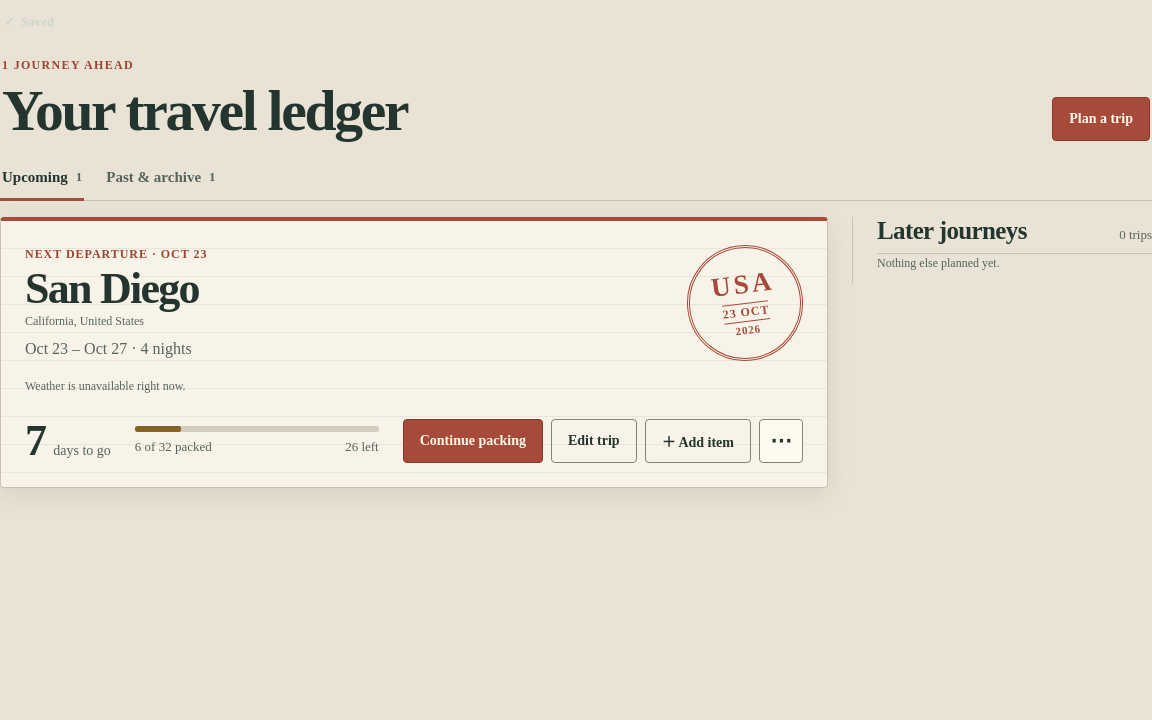
TripsScreen › reads and writes through the server actions
expect the heading "San Diego" is shown: met, box [25,267,207,310]
Click the button named "More actions for San Diego". click: click(781, 441)
box: [759,419,803,463]
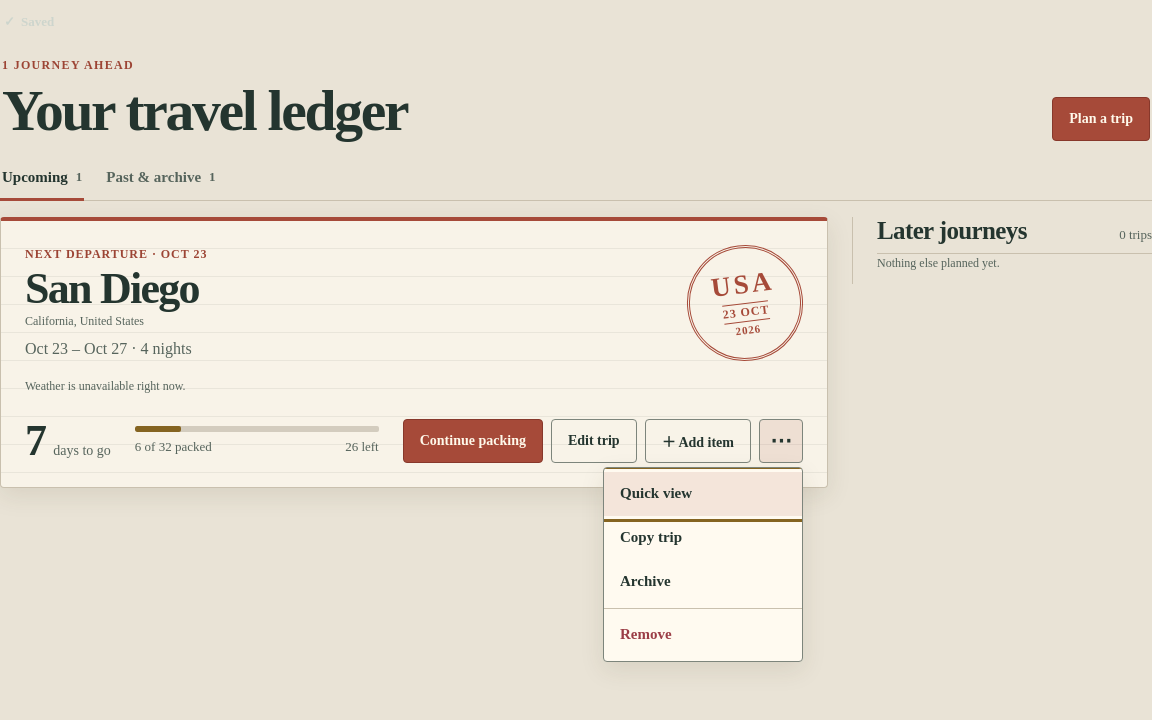
Click the menu item "Remove". click: click(703, 635)
box: [604,613,802,657]
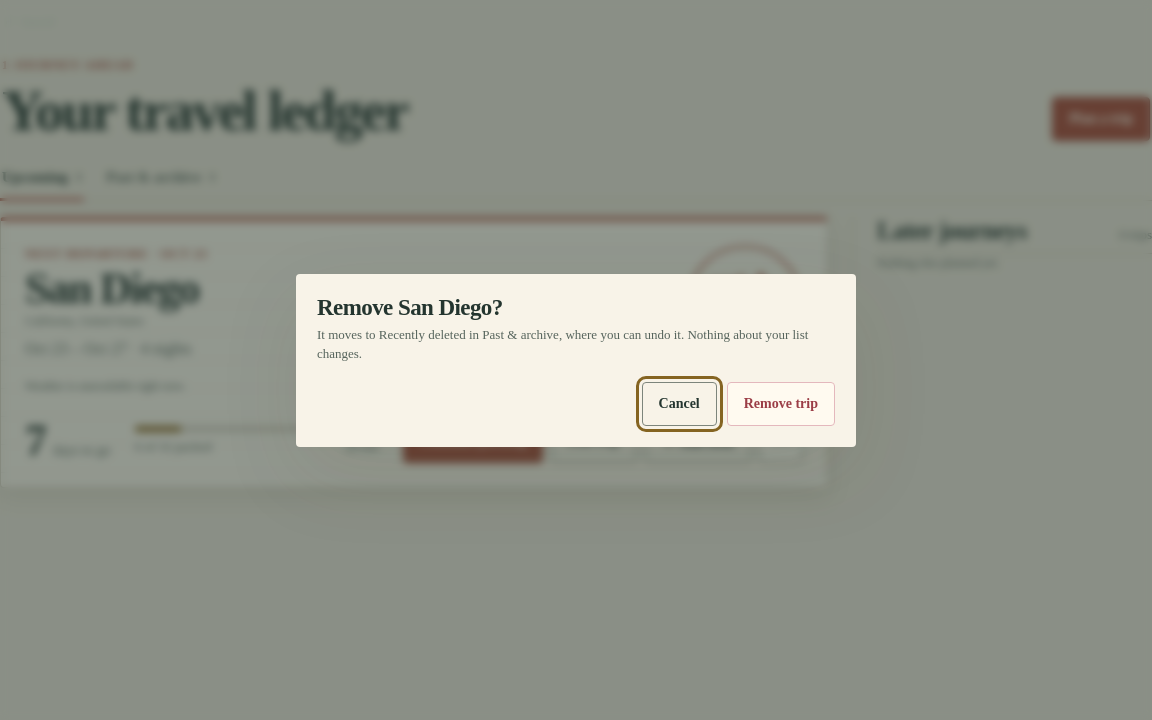
Click the button "Remove trip". click: click(781, 404)
box: [727,382,835,426]
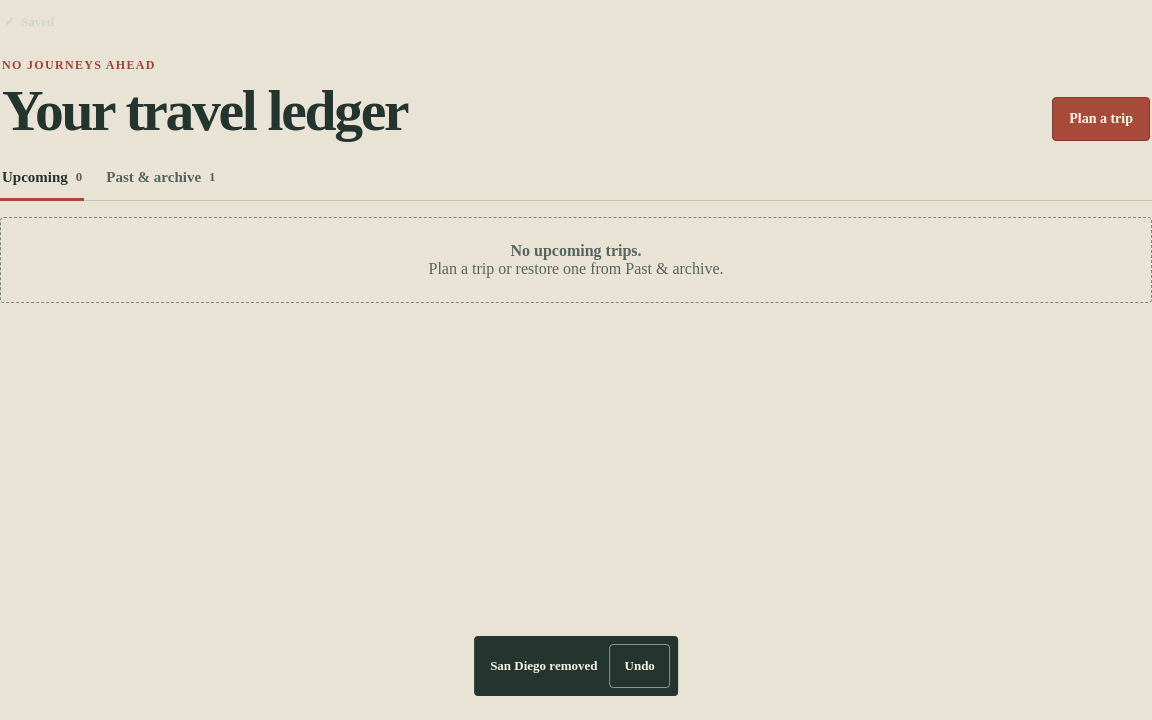
expect the text "San Diego removed" is shown: met, box [490,658,598,674]
Click the button "Past & archive 1". click: click(161, 179)
box: [104,157,218,201]
(page scrolled)
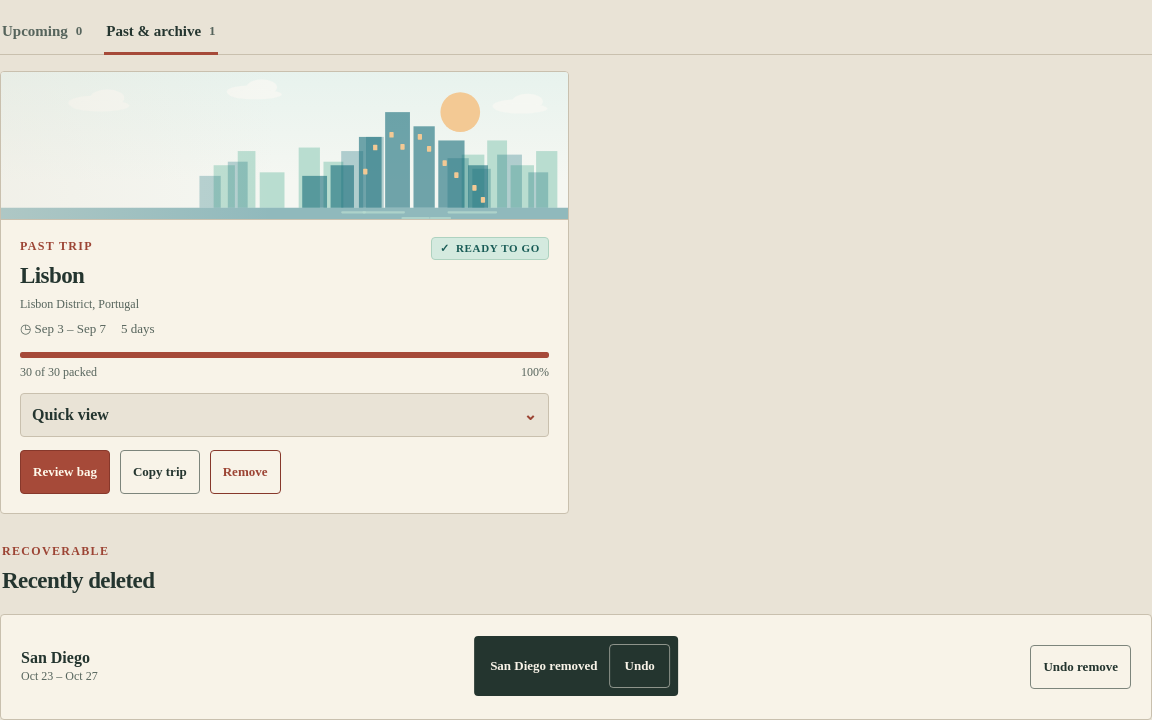
expect the button with aria-label "Undo remove: San Diego" is shown: met, box [1030,645,1131,689]
